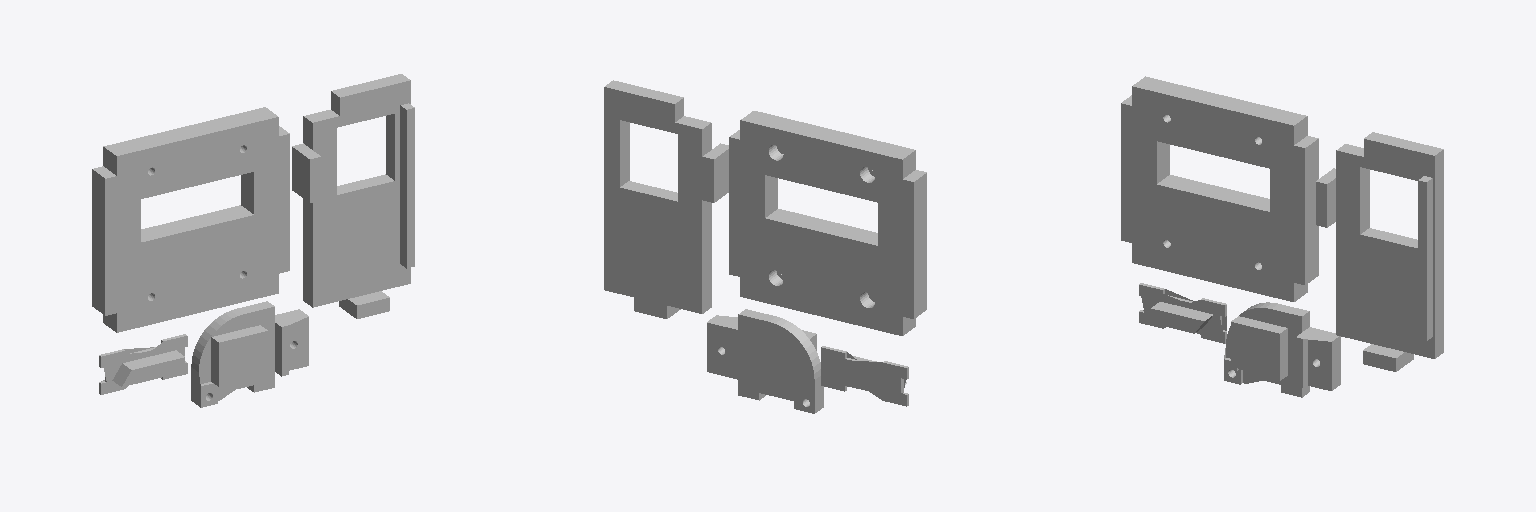
The model's file is Support Braces.obj.
3 views of the same model, side by side, from view 1: azimuth 30°, elevation 25°; view 2: azimuth 150°, elevation 25°; view 3: azimuth 330°, elevation 25° (orthographic).
Parts seen in each view (by area): view 1: Mesh3 Screen_Brace1 Model, Mesh4 ESP_brace1 Model, Mesh2 Camera_Brace1 Model, Mesh1 Button1 Model; view 2: Mesh3 Screen_Brace1 Model, Mesh4 ESP_brace1 Model, Mesh2 Camera_Brace1 Model, Mesh1 Button1 Model; view 3: Mesh3 Screen_Brace1 Model, Mesh4 ESP_brace1 Model, Mesh2 Camera_Brace1 Model, Mesh1 Button1 Model.
Boxes of the visible parts, <box> form: Mesh3 Screen_Brace1 Model: <box>92,107,289,332</box>; Mesh4 ESP_brace1 Model: <box>292,74,414,318</box>; Mesh2 Camera_Brace1 Model: <box>191,301,308,407</box>; Mesh1 Button1 Model: <box>99,334,187,394</box>; Mesh3 Screen_Brace1 Model: <box>729,111,926,335</box>; Mesh4 ESP_brace1 Model: <box>604,80,728,318</box>; Mesh2 Camera_Brace1 Model: <box>707,309,823,413</box>; Mesh1 Button1 Model: <box>821,346,908,406</box>; Mesh3 Screen_Brace1 Model: <box>1121,76,1318,301</box>; Mesh4 ESP_brace1 Model: <box>1316,132,1443,371</box>; Mesh2 Camera_Brace1 Model: <box>1224,302,1340,397</box>; Mesh1 Button1 Model: <box>1139,283,1226,343</box>.
Size of the model in its own units: 82.19 by 69.94 by 8.3.